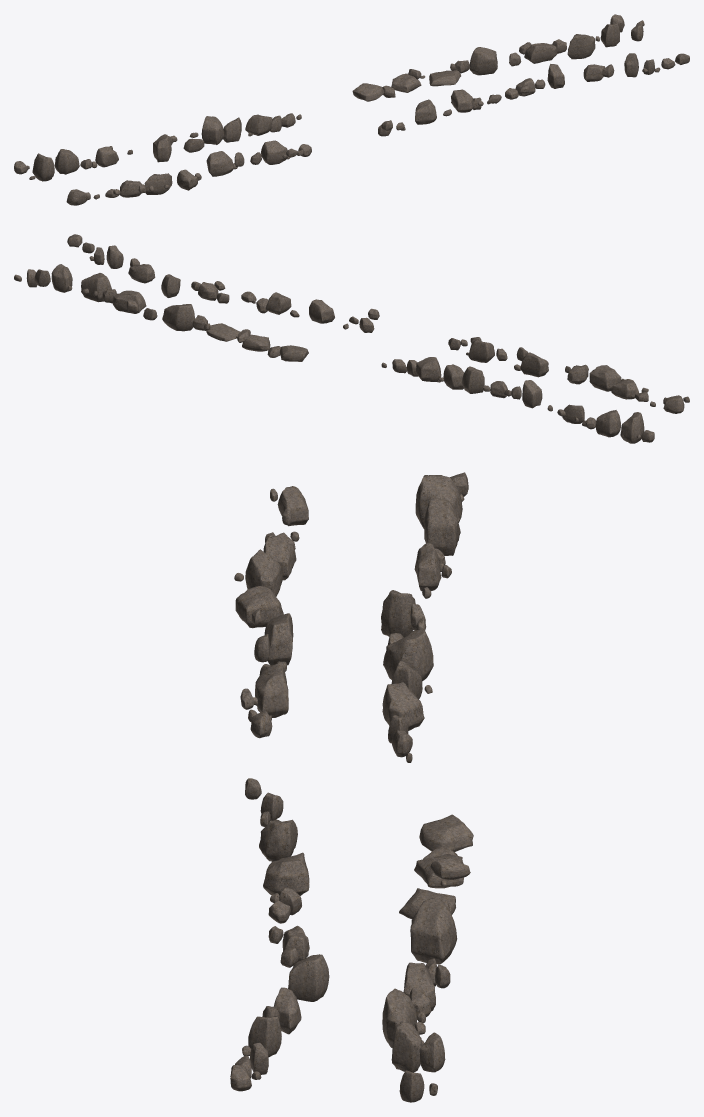
The model's file is RiverBankPatch.glb.
3 renders of one model, top to bottom at view 1: azimuth 30°, elevation 25°; view 2: azimuth 150°, elevation 25°; view 3: azimuth 270°, elevation 25°, orthographic. The views are drawn at different scales.
Visible parts, largest first — view 1: River_bank_rocks; view 2: River_bank_rocks; view 3: River_bank_rocks.
Part boxes in pixels (x1=…): River_bank_rocks: x1=14, y1=14, x2=689, y2=205; River_bank_rocks: x1=14, y1=234, x2=689, y2=443; River_bank_rocks: x1=230, y1=472, x2=473, y2=1102.
Bounding box in the file's own units: 135 × 5.82 × 22.83.
Materials: 1 (1 with a texture image).
